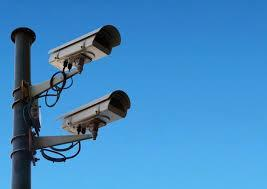Monitor: (23, 12, 162, 159)
